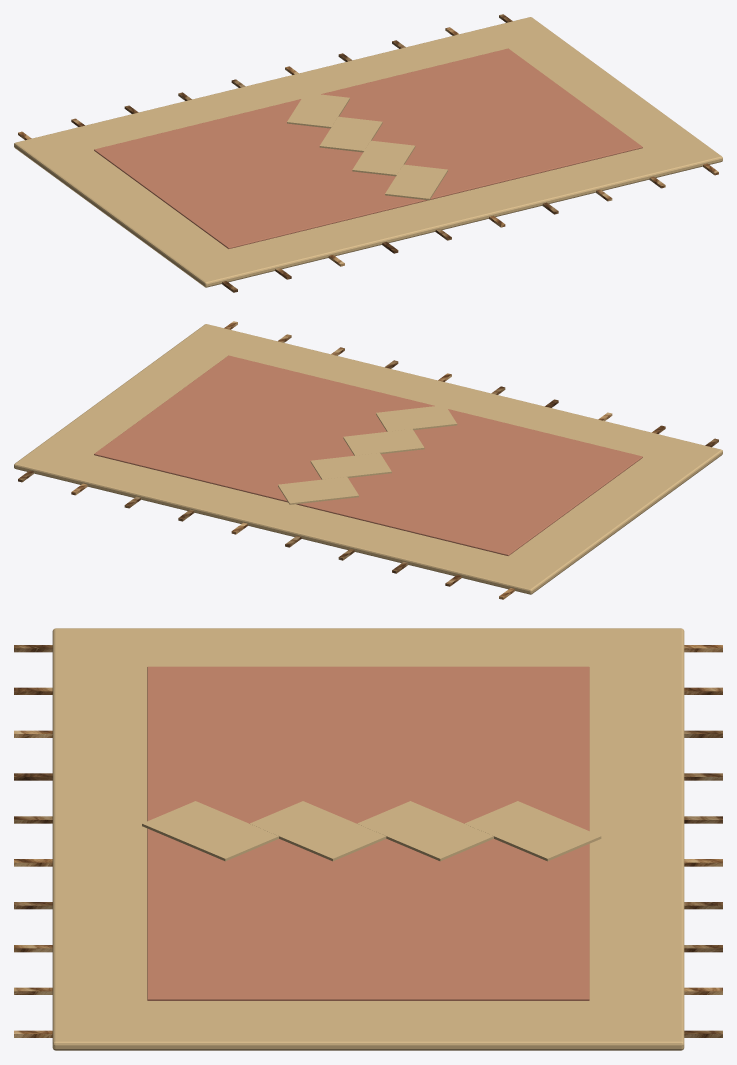
The model's file is shack_rug.glb.
3 views of the same model, one above another, from view 1: azimuth 30°, elevation 25°; view 2: azimuth 150°, elevation 25°; view 3: azimuth 270°, elevation 25° (orthographic). The views are drawn at different scales.
Visible parts, largest first — view 1: model; view 2: model; view 3: model.
Boxes of the visible parts, x1=… form: model: x1=14, y1=14, x2=722, y2=292; model: x1=14, y1=321, x2=722, y2=599; model: x1=14, y1=628, x2=722, y2=1050.
Size of the model in its own units: 1.4 by 0.022 by 1.01.
6 materials, 3 textured.
